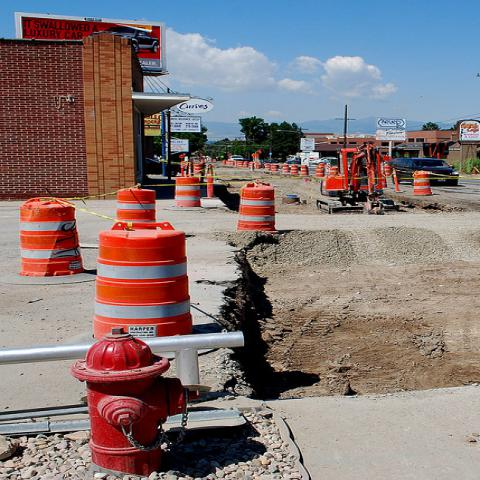car: (392, 158, 460, 186), (310, 158, 329, 164), (287, 160, 301, 168), (317, 159, 337, 164), (229, 155, 244, 161)
